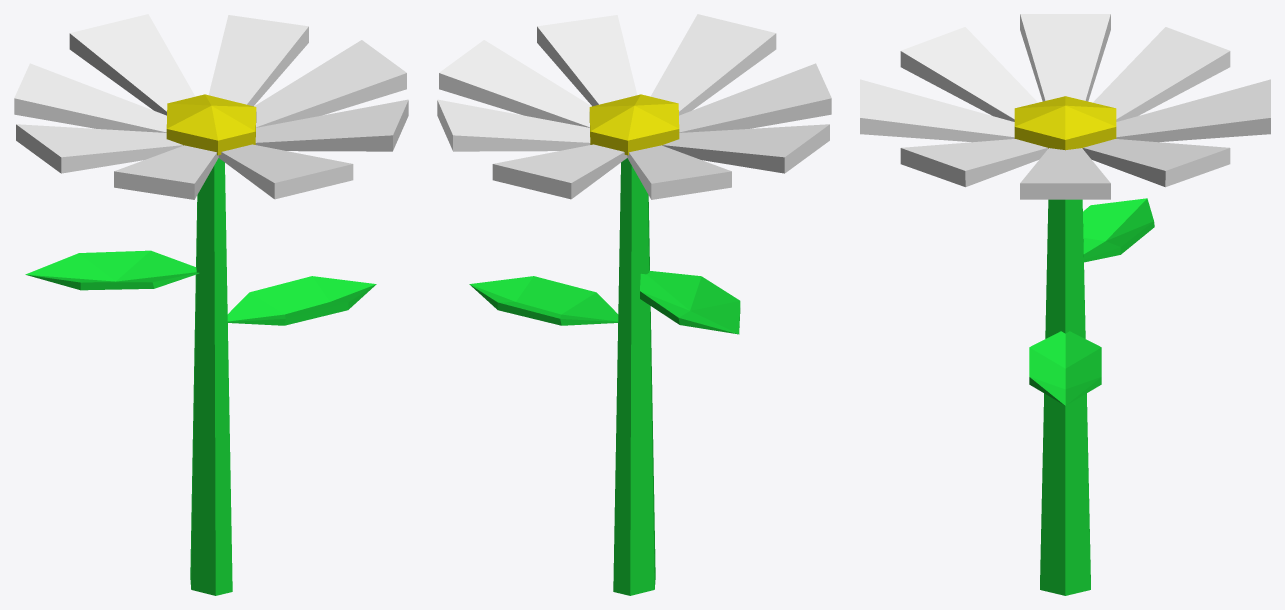
File: Flower.fbx
3 views of the same model, side by side, from view 1: azimuth 30°, elevation 25°; view 2: azimuth 150°, elevation 25°; view 3: azimuth 270°, elevation 25° (orthographic).
Parts seen in each view (by area): view 1: Flower; view 2: Flower; view 3: Flower.
Part boxes in pixels (x1,y1,x2,y2): Flower: (14, 14, 408, 595); Flower: (437, 14, 831, 595); Flower: (860, 14, 1270, 595).
Size of the model in its own units: 0.7769 by 1.04 by 0.797.
